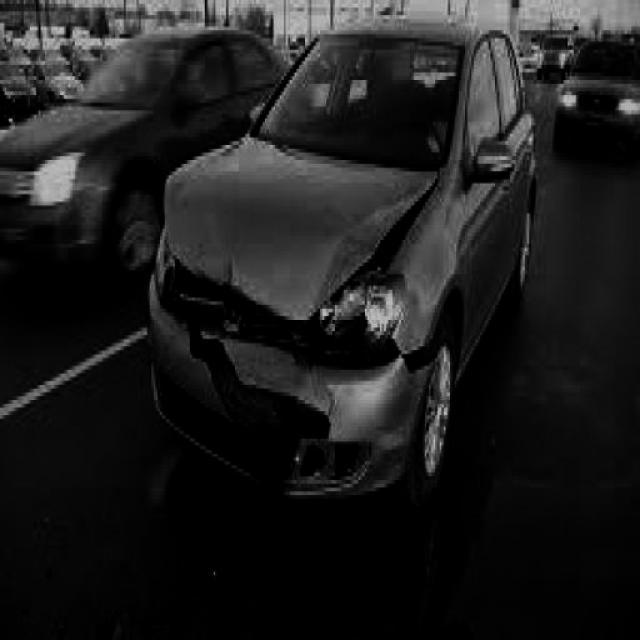car damage: (158, 181, 441, 489)
